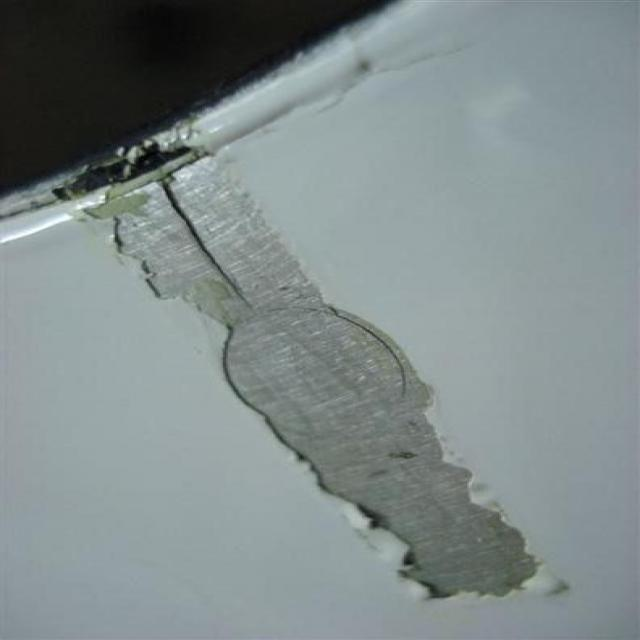crack: (113, 175, 343, 360)
